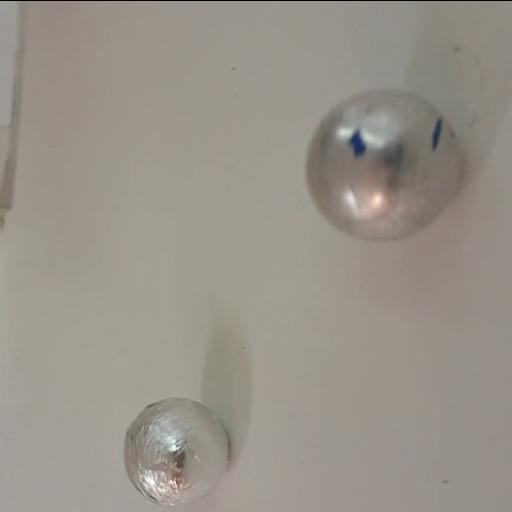alive: (300, 82, 468, 246), (122, 396, 230, 508)
